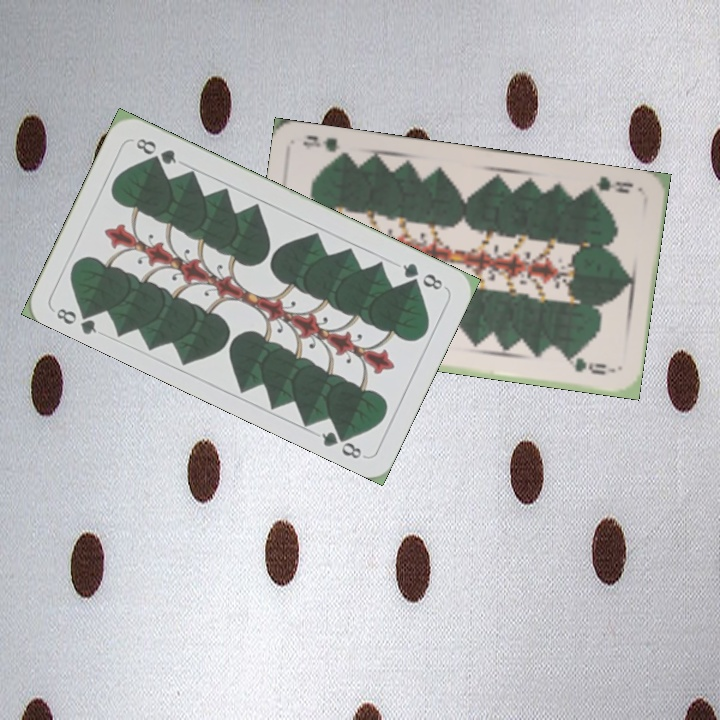G8: (398, 258, 446, 293), (52, 302, 100, 337)
G9: (582, 172, 636, 198)
